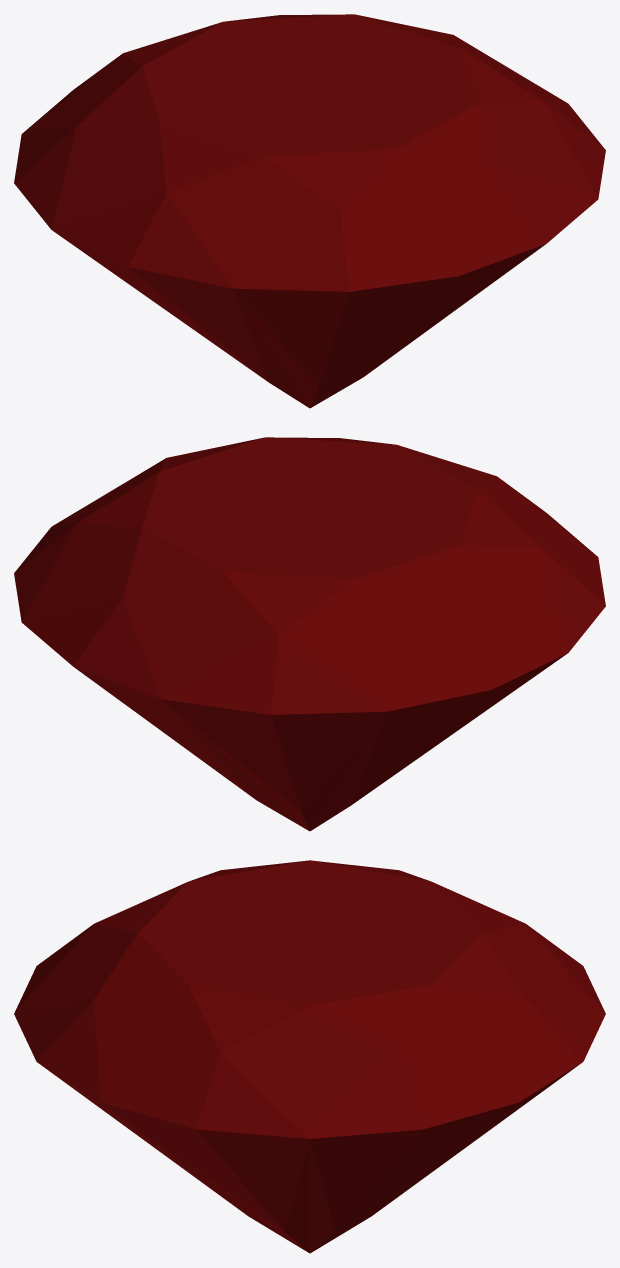
The model's file is diamond.obj.
The picture shows the model from 3 angles, top to bottom: view 1: azimuth 30°, elevation 25°; view 2: azimuth 150°, elevation 25°; view 3: azimuth 270°, elevation 25°; orthographic projection.
Visible parts, largest first — view 1: Gem; view 2: Gem; view 3: Gem.
Part boxes in pixels (x1,y1,x2,y2): Gem: (14, 14, 605, 408); Gem: (14, 437, 605, 831); Gem: (14, 860, 605, 1253).
Bounding box in the file's own units: 0.9625 × 0.575 × 0.9625.
